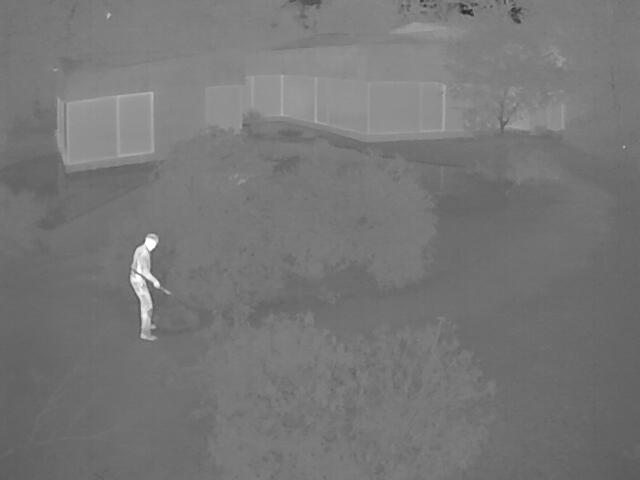person: (129, 232, 161, 343)
